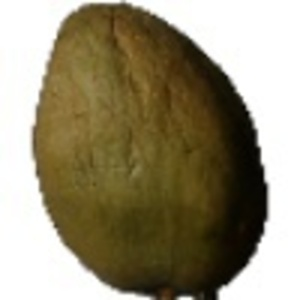mamão: (24, 3, 274, 291)
